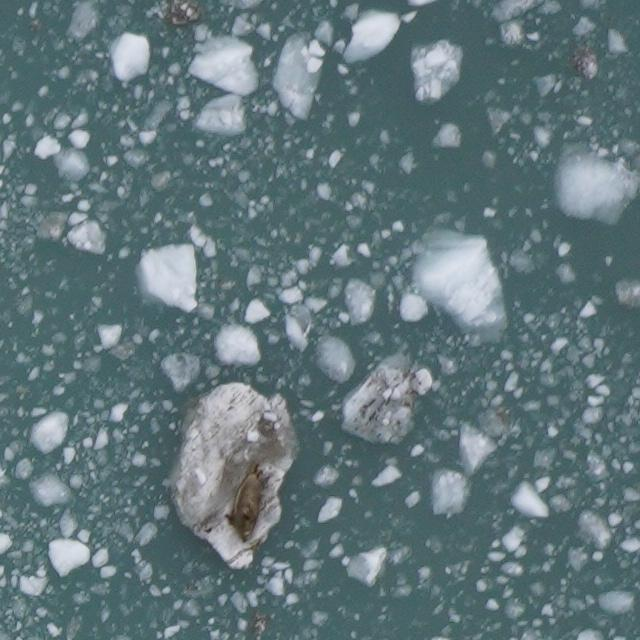seal: (220, 458, 268, 545)
